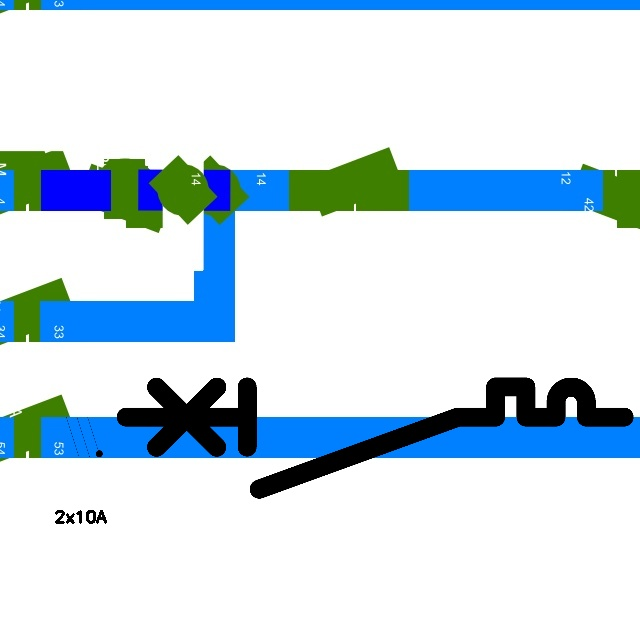interruptor_termomagnetico: (113, 374, 637, 502)
